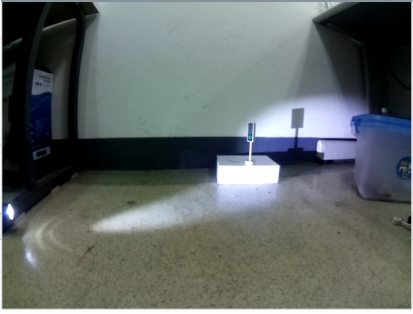Green: (244, 120, 256, 144)
